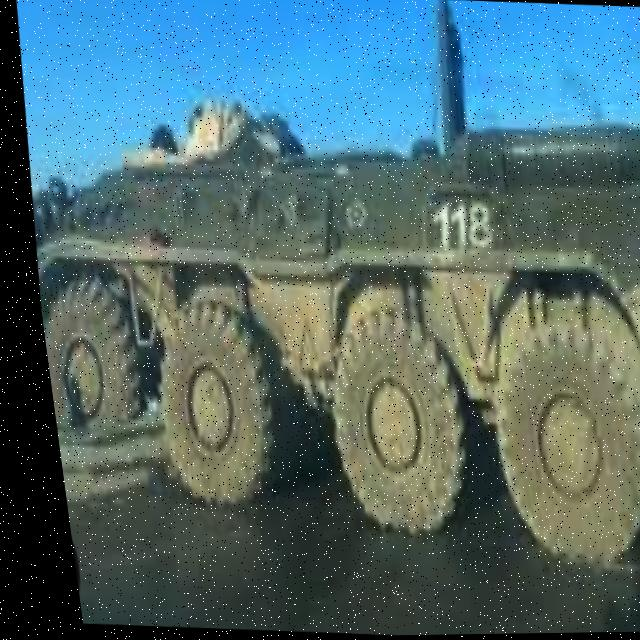MIL_APC: (9, 77, 640, 576)
